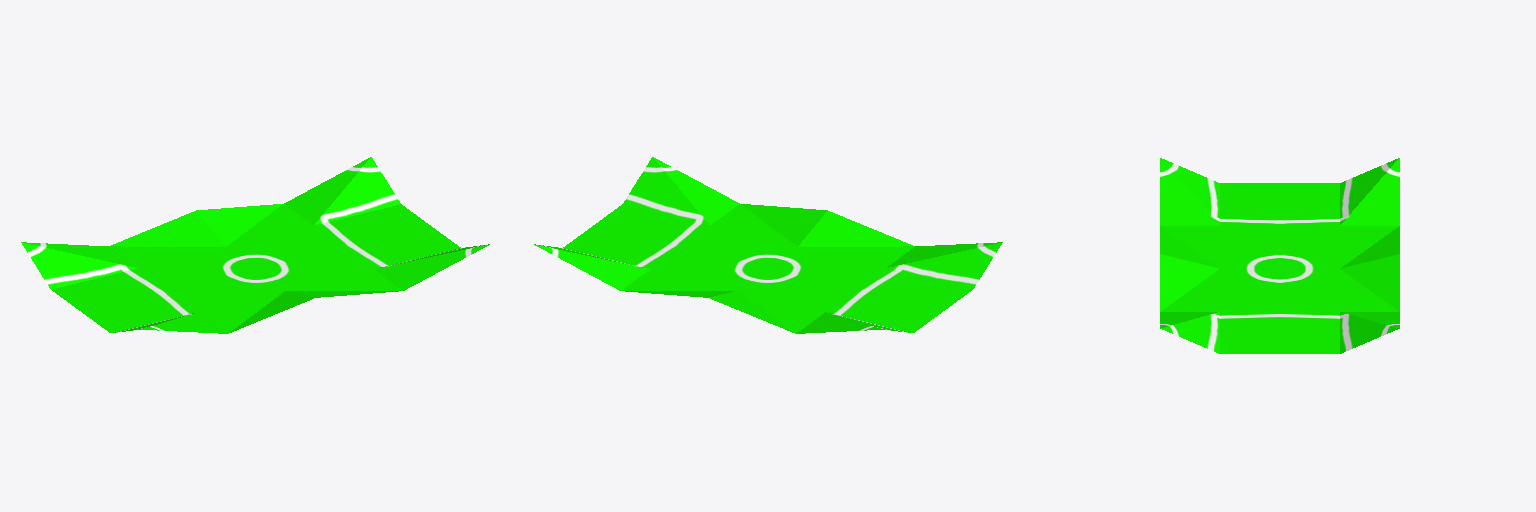
The picture shows the model from 3 angles: view 1: azimuth 30°, elevation 25°; view 2: azimuth 150°, elevation 25°; view 3: azimuth 270°, elevation 25°; orthographic projection.
Parts seen in each view (by area): view 1: Plane; view 2: Plane; view 3: Plane.
Boxes of the visible parts, box(x1,y1,x2,y2) form: Plane: box(21, 157, 489, 333); Plane: box(534, 157, 1002, 333); Plane: box(1160, 158, 1399, 353).
Bounding box in the file's own units: 10.54 × 0.7367 × 6.23.
1 materials, 1 textured.